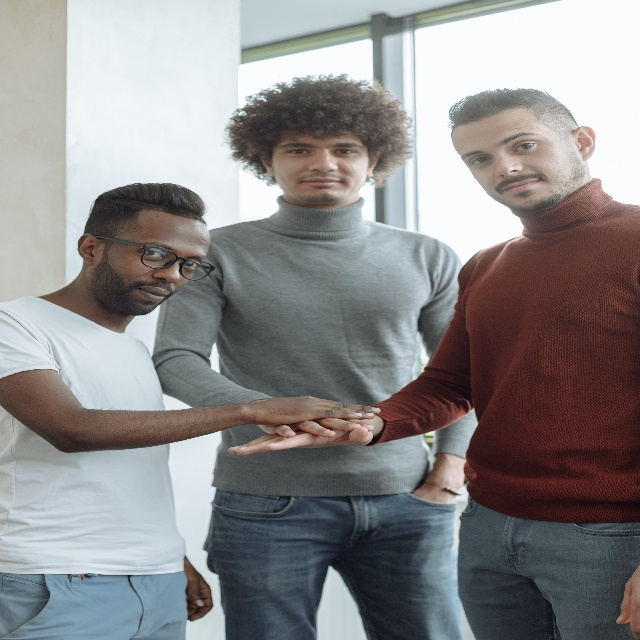Gafas: (91, 207, 211, 315)
Sin_guantes: (249, 396, 374, 440), (255, 391, 382, 423), (227, 425, 374, 452), (614, 555, 640, 640), (182, 554, 214, 621)
